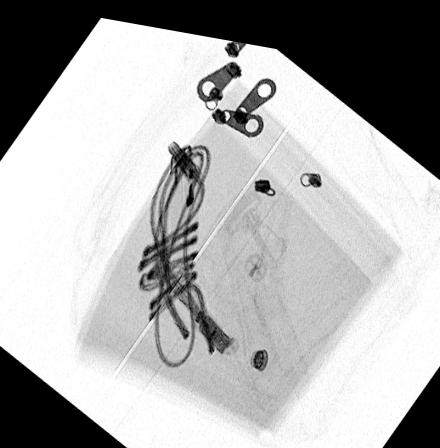Lighter: (138, 246, 198, 285)
